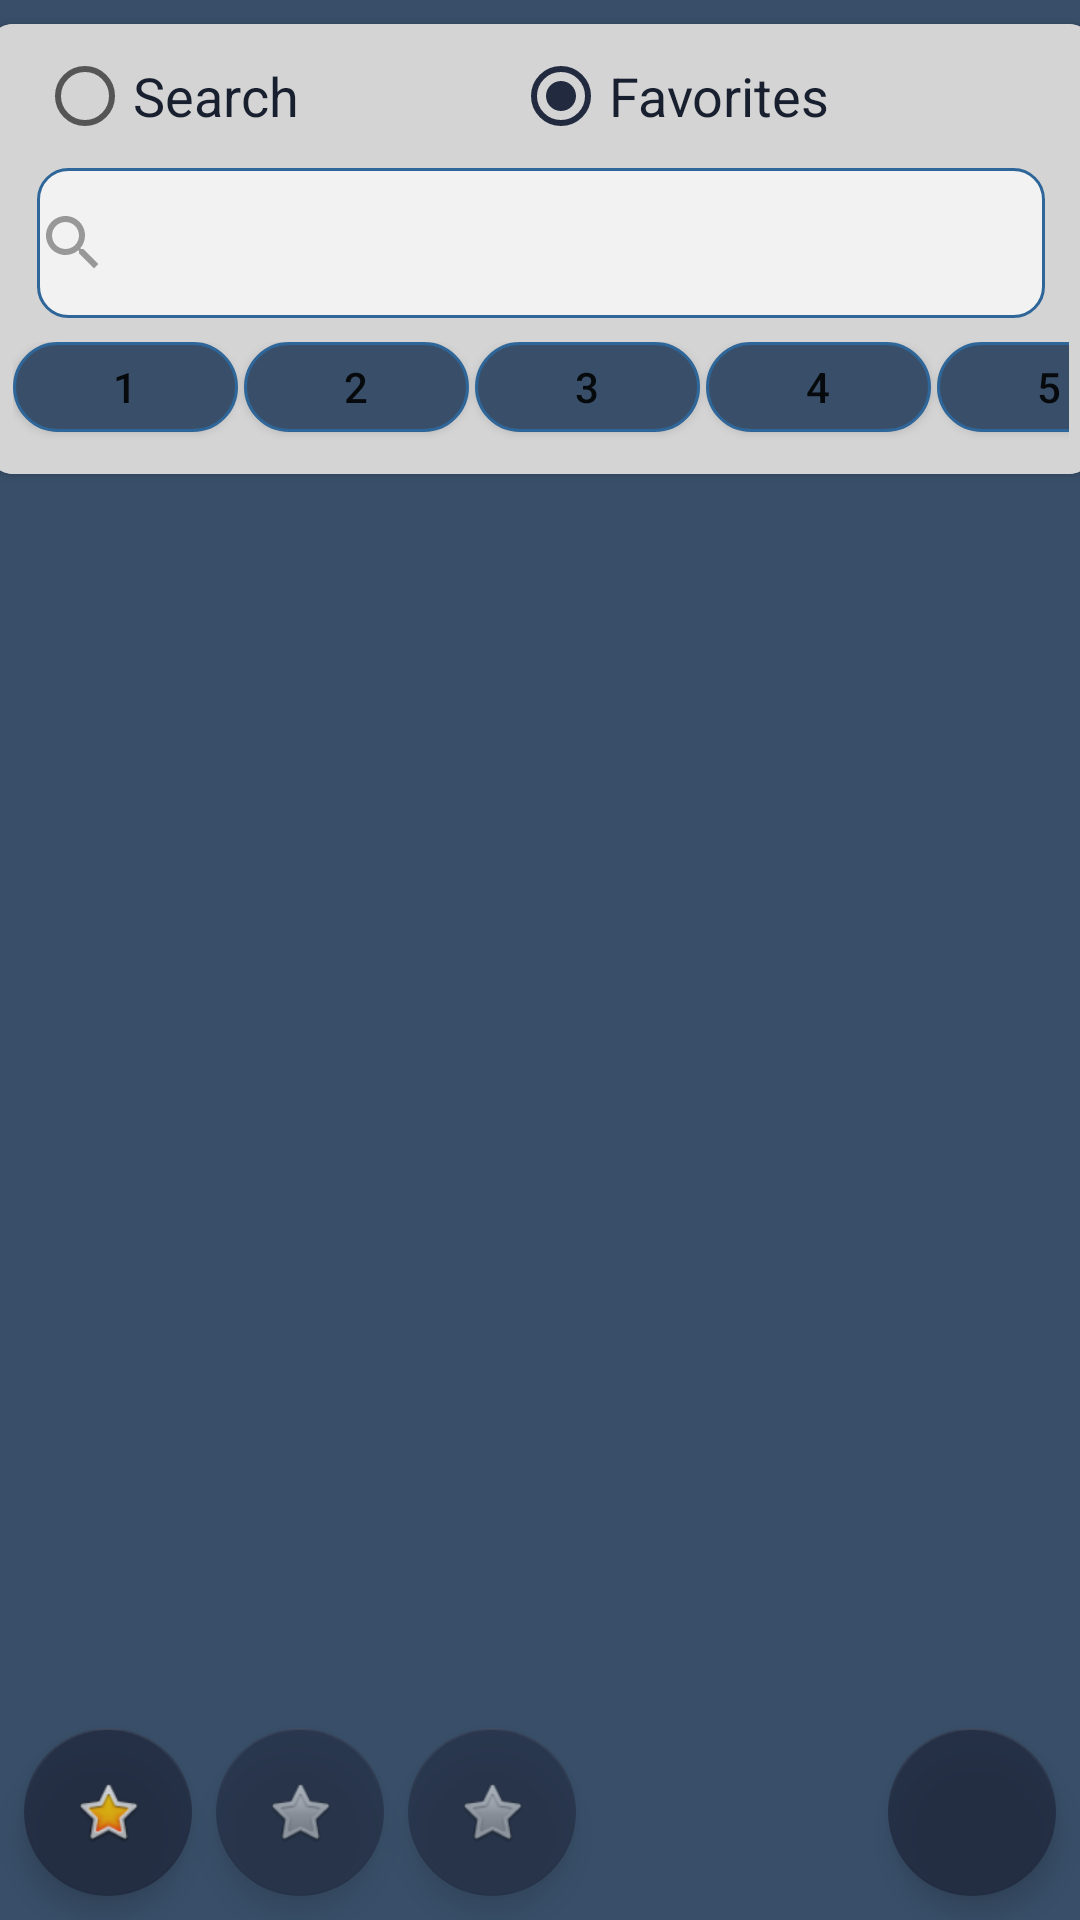

Where to tap for icons on this 1080*1920 app screen, as (x=x, y=y):
star on: (x=108, y=1813)
